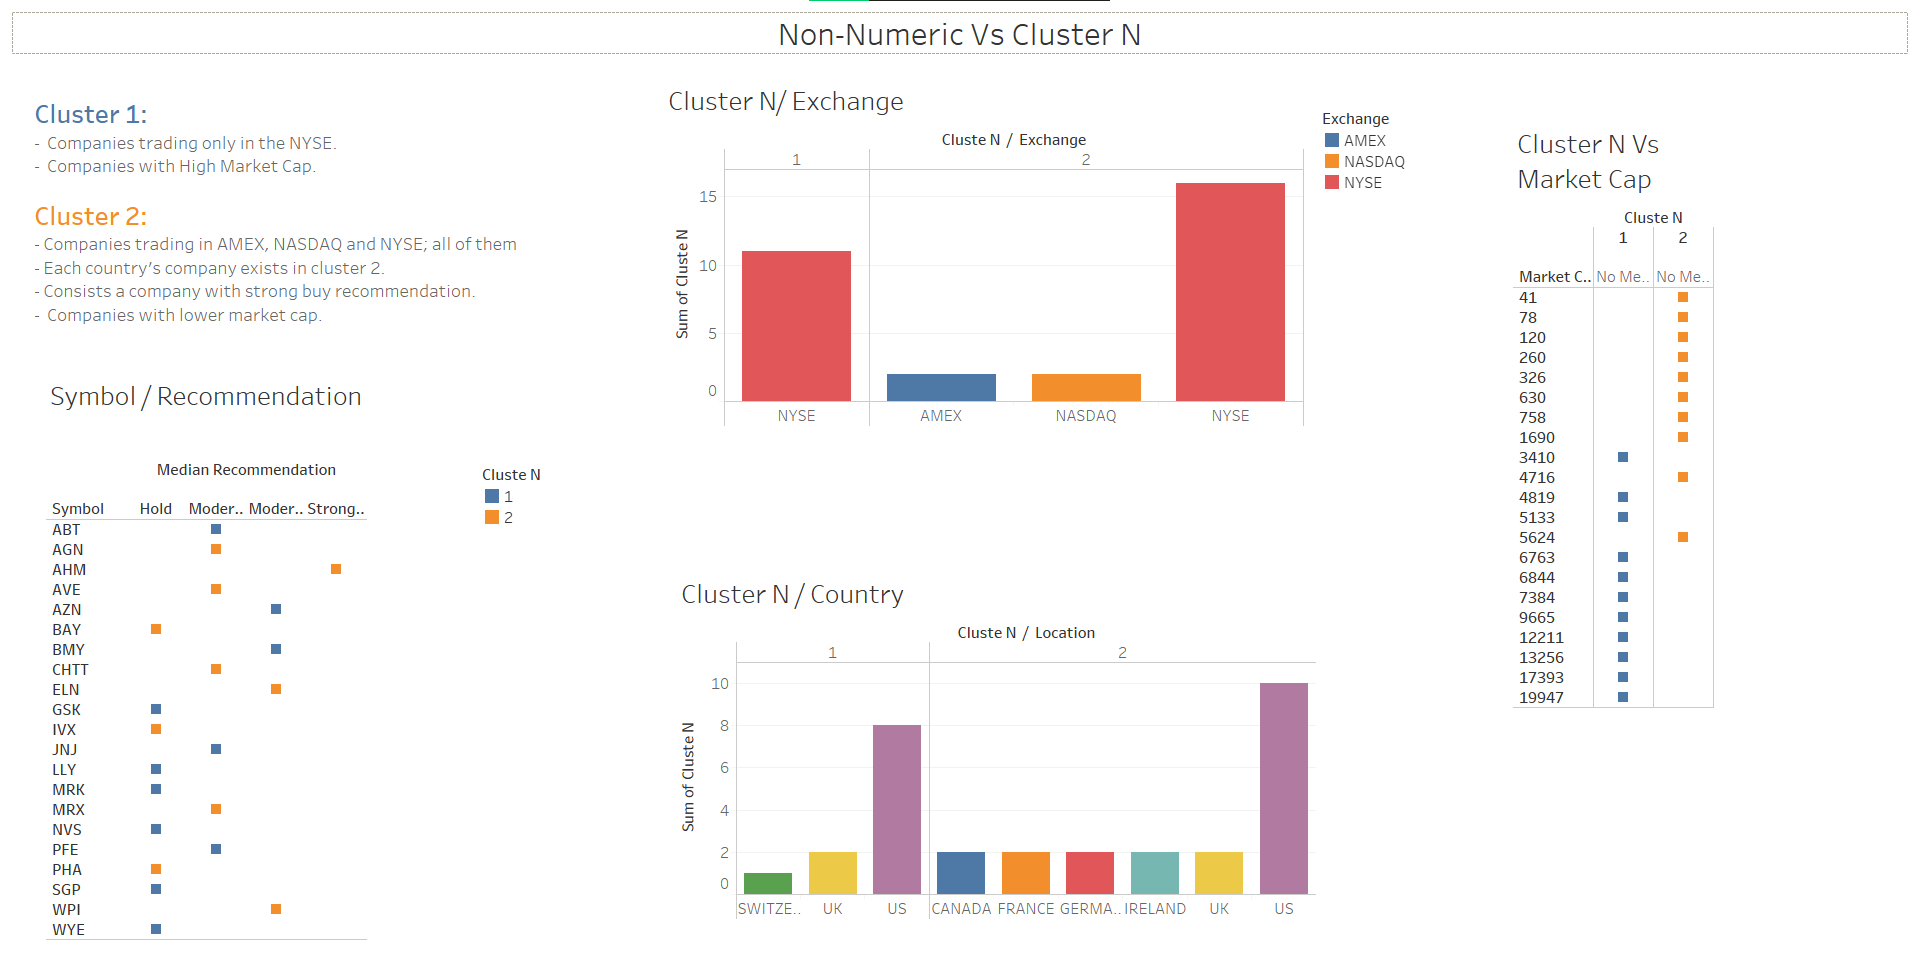

This screenshot's page, from the dashboard's own definition file:
{"tool":"tableau","page":{"name":"Non-Numeric Vs Cluster N","canvas":[1000,1000],"units":"permille","ordinal":0},"visuals":[{"type":"worksheet","box":[0,0,1000,1000]},{"type":"worksheet","param":"vert","box":[4.8,9.3,990.3,981.4]},{"type":"worksheet","box":[4.8,9.3,990.3,58.1]},{"type":"worksheet","box":[16.3,61.6,325.9,286.9]},{"type":"worksheet","param":"vert","box":[4.8,67.4,990.3,923.4]},{"type":"worksheet","box":[4.8,67.4,990.3,923.4]},{"type":"worksheet","title":"Cluster N/ Exchange","mark":"Automatic","rows":["clusteN"],"cols":["clusteN","Exchange"],"box":[345.8,75.5,333.1,333.3]},{"type":"worksheet","title":"Cluster N/ Exchange","mark":"Automatic","rows":["clusteN"],"cols":["clusteN","Exchange"],"param":"[federated.0lztxi117ymz2r0znuhki0e44a30].[none:Exchange:nk]","box":[688.6,103.4,84.5,98.7]},{"type":"worksheet","title":"Cluster N Vs  Market Cap","mark":"Automatic","rows":["Market_Cap"],"cols":["clusteN"],"box":[788.2,117.3,180.5,750.3]},{"type":"worksheet","title":"Symbol / Recommendation","mark":"Automatic","rows":["Symbol"],"cols":["Median_Recommendation"],"box":[24.1,358.9,217.3,635.3]},{"type":"worksheet","title":"Symbol / Recommendation","mark":"Automatic","rows":["Symbol"],"cols":["Median_Recommendation"],"param":"[federated.0lztxi117ymz2r0znuhki0e44a30].[none:clusteN:ok]","box":[251.1,444.8,84.5,74.3]},{"type":"worksheet","title":"Cluster N / Country","mark":"Automatic","rows":["clusteN"],"cols":["clusteN","Location"],"box":[352.4,548.2,333.1,333.3]}]}

Visuals, with their boxes on the dashboard's canvas, which has no fixed pixel size, in thousandths of its width and height (x1, y1, x2, y2). These are canvas units, not pixel positions in the 1920x961 screenshot, which may show the page scaled, cropped or inside an application window:
worksheet: {"left": 0, "top": 0, "right": 1000, "bottom": 1000}
worksheet: {"left": 5, "top": 9, "right": 995, "bottom": 991}
worksheet: {"left": 5, "top": 9, "right": 995, "bottom": 67}
worksheet: {"left": 16, "top": 62, "right": 342, "bottom": 348}
worksheet: {"left": 5, "top": 67, "right": 995, "bottom": 991}
worksheet: {"left": 5, "top": 67, "right": 995, "bottom": 991}
"Cluster N/ Exchange" worksheet: {"left": 346, "top": 76, "right": 679, "bottom": 409}
"Cluster N/ Exchange" worksheet: {"left": 689, "top": 103, "right": 773, "bottom": 202}
"Cluster N Vs  Market Cap" worksheet: {"left": 788, "top": 117, "right": 969, "bottom": 868}
"Symbol / Recommendation" worksheet: {"left": 24, "top": 359, "right": 241, "bottom": 994}
"Symbol / Recommendation" worksheet: {"left": 251, "top": 445, "right": 336, "bottom": 519}
"Cluster N / Country" worksheet: {"left": 352, "top": 548, "right": 686, "bottom": 882}
